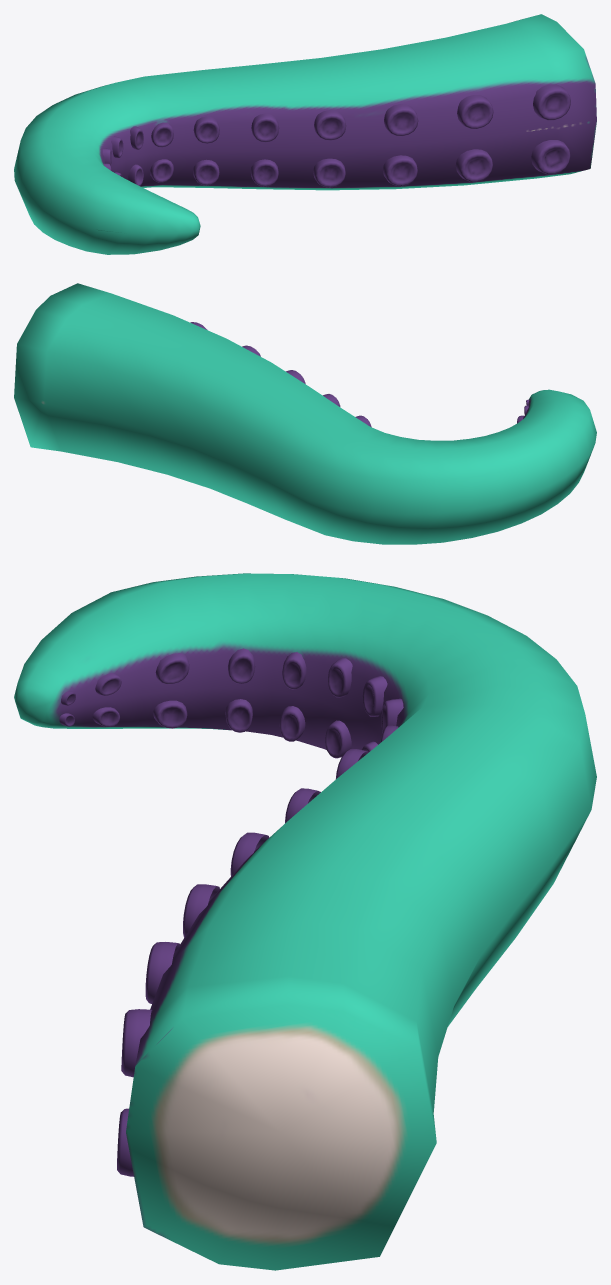
Rendered from TentaculoDeKraken.fbx.
The picture shows the model from 3 angles, top to bottom: view 1: azimuth 30°, elevation 25°; view 2: azimuth 150°, elevation 25°; view 3: azimuth 270°, elevation 25°; orthographic projection. The views are drawn at different scales.
Parts seen in each view (by area): view 1: Tentaculo Kraken; view 2: Tentaculo Kraken; view 3: Tentaculo Kraken.
Boxes of the visible parts, x1,y1,x2,y2 form: Tentaculo Kraken: (14, 14, 596, 254); Tentaculo Kraken: (14, 283, 596, 544); Tentaculo Kraken: (14, 573, 596, 1270).
Bounding box in the file's own units: 205 × 52.88 × 104.
